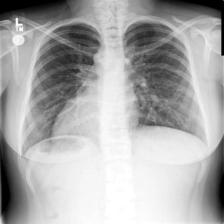normal: (17, 18, 212, 152)
